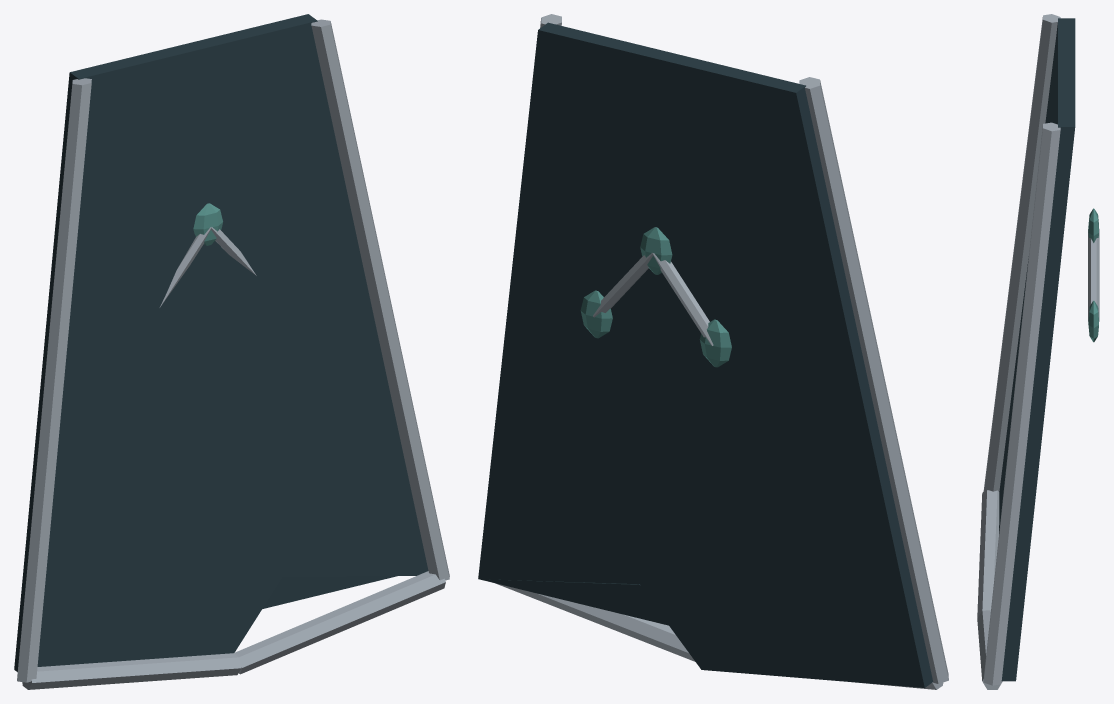
Rendered from scholarMantle.glb.
The picture shows the model from 3 angles, left to right: view 1: azimuth 30°, elevation 25°; view 2: azimuth 150°, elevation 25°; view 3: azimuth 270°, elevation 25°; orthographic projection. The views are drawn at different scales.
Visible parts, largest first — view 1: scholarMantle; view 2: scholarMantle; view 3: scholarMantle.
Boxes of the visible parts, x1,y1,x2,y2 form: scholarMantle: [14, 14, 449, 689]; scholarMantle: [478, 14, 948, 689]; scholarMantle: [977, 14, 1099, 689].
Bounding box in the file's own units: 0.7598 × 1 × 0.2.
